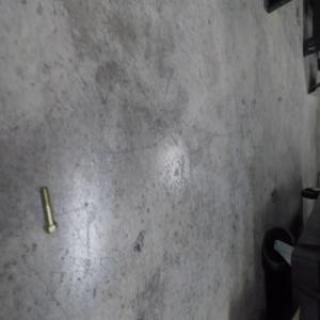Bolttrack_idkeyframe: (38, 184, 57, 234)
